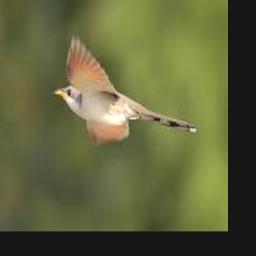Cuckoo: (53, 36, 196, 140)
